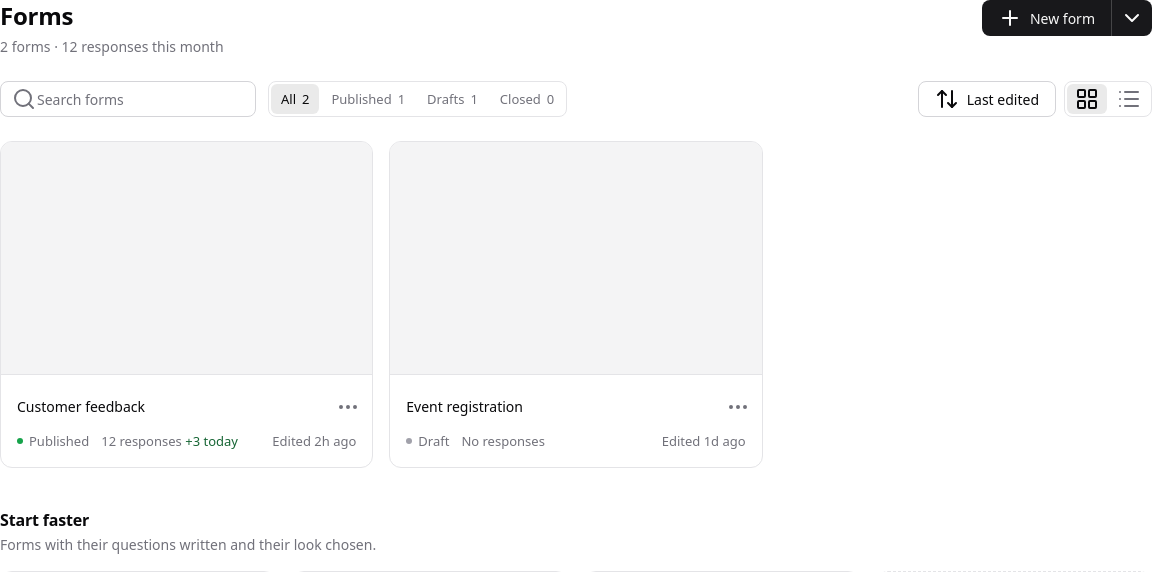
it: FormsPage: changing forms › renames a form straight away, before the server answers
Click the button named "Actions for Event registration". click: (738, 407)
box: [722, 391, 754, 423]
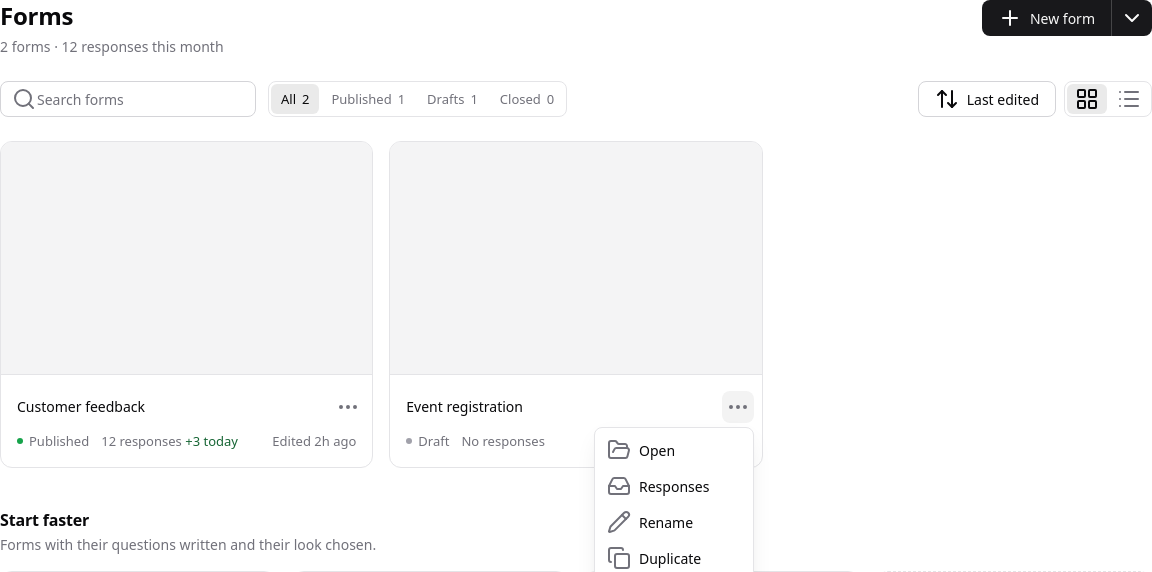
Click the menu item "Rename". click: (650, 522)
box: [607, 510, 693, 534]
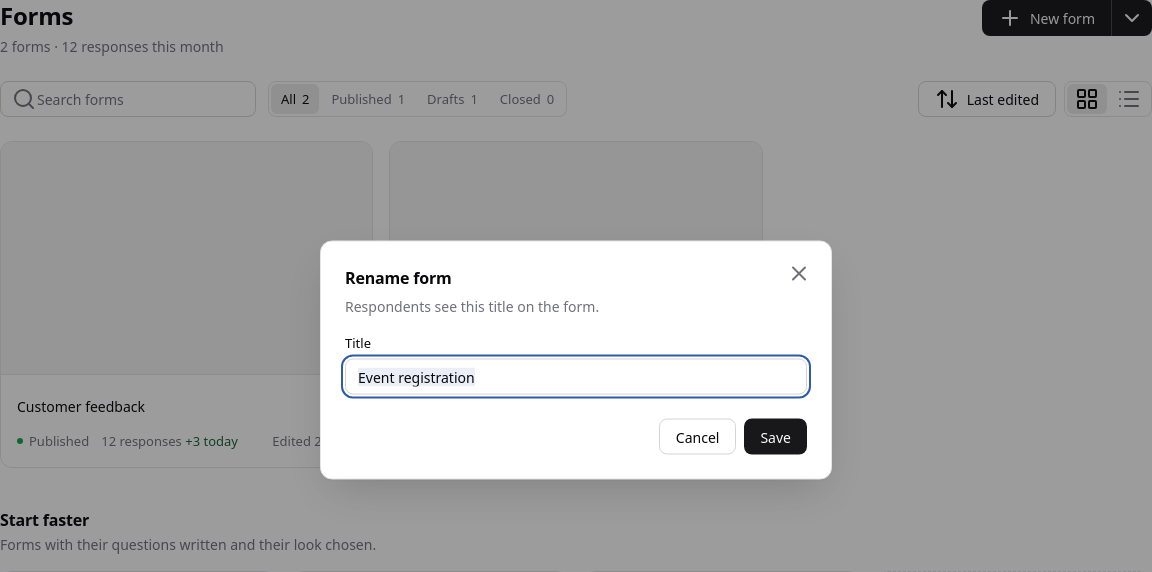
Replace the text in the field labelled "Title" with "Summit signup". click: (576, 376)
box: [345, 358, 807, 394]
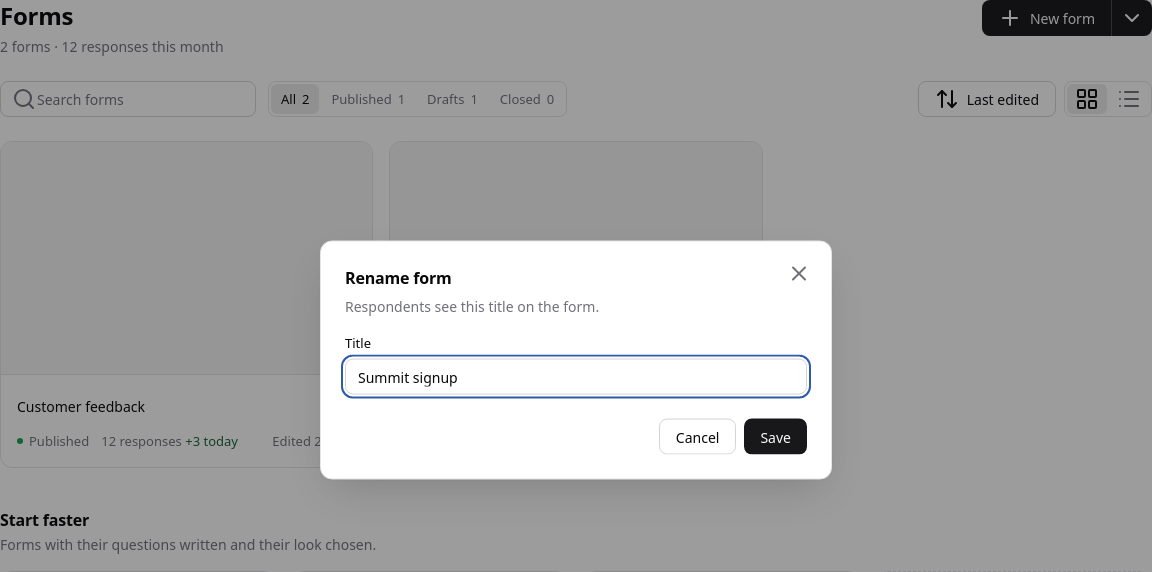
Click the button "Save". click: (776, 436)
box: [744, 418, 807, 454]
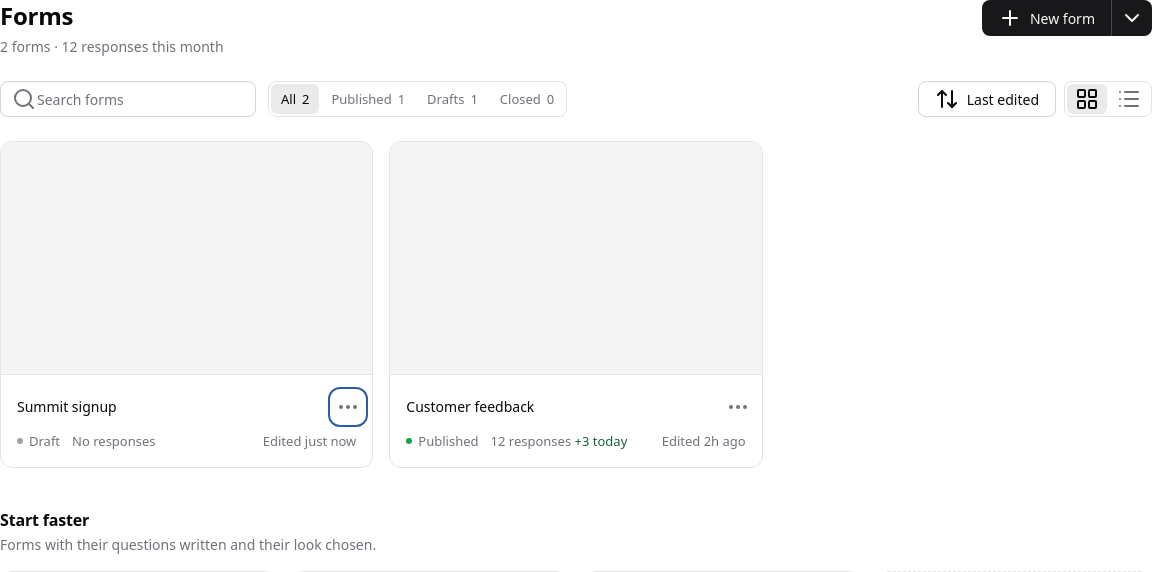
Expected: the dialog is gone
